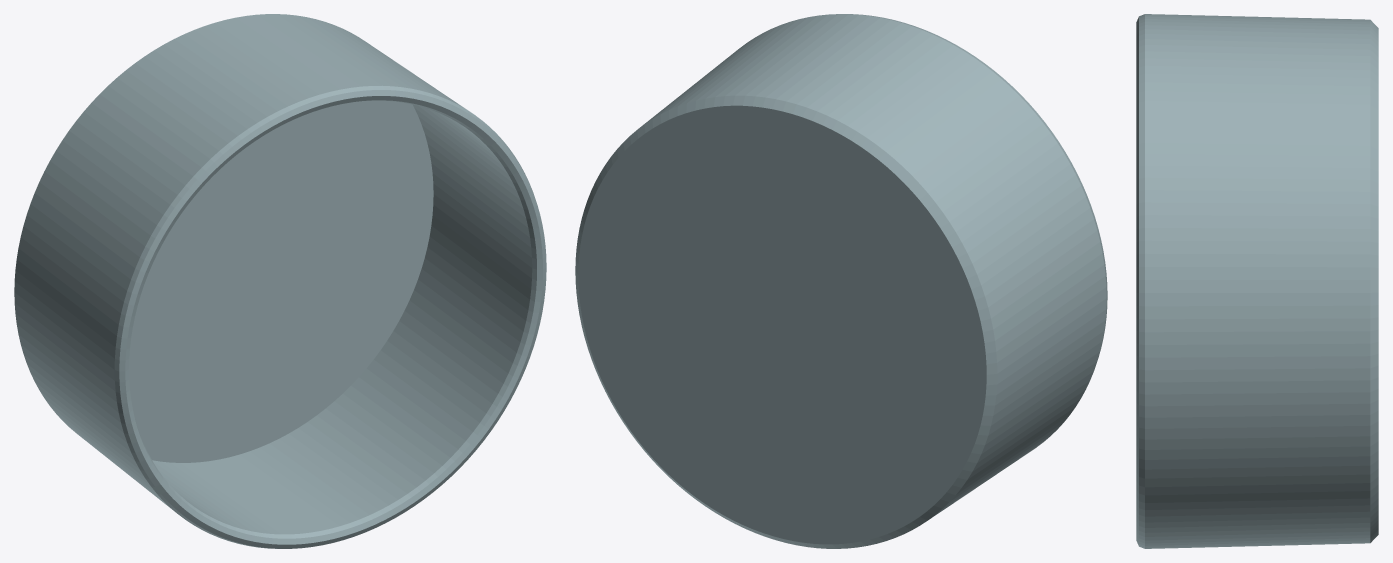
The model's file is pot_base.obj.
3 views of the same model, side by side, from view 1: azimuth 30°, elevation 25°; view 2: azimuth 150°, elevation 25°; view 3: azimuth 270°, elevation 25° (orthographic). The views are drawn at different scales.
Visible parts, largest first — view 1: pot_base; view 2: pot_base; view 3: pot_base.
Part boxes in pixels (left/top/right/bottom): pot_base: left=14, top=14, right=546, bottom=548; pot_base: left=575, top=14, right=1107, bottom=548; pot_base: left=1136, top=14, right=1378, bottom=548.
Size of the model in its own units: 0.19 by 0.19 by 0.086.
